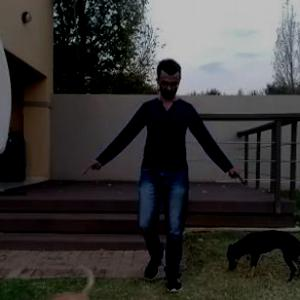land: (92, 76, 222, 282)
